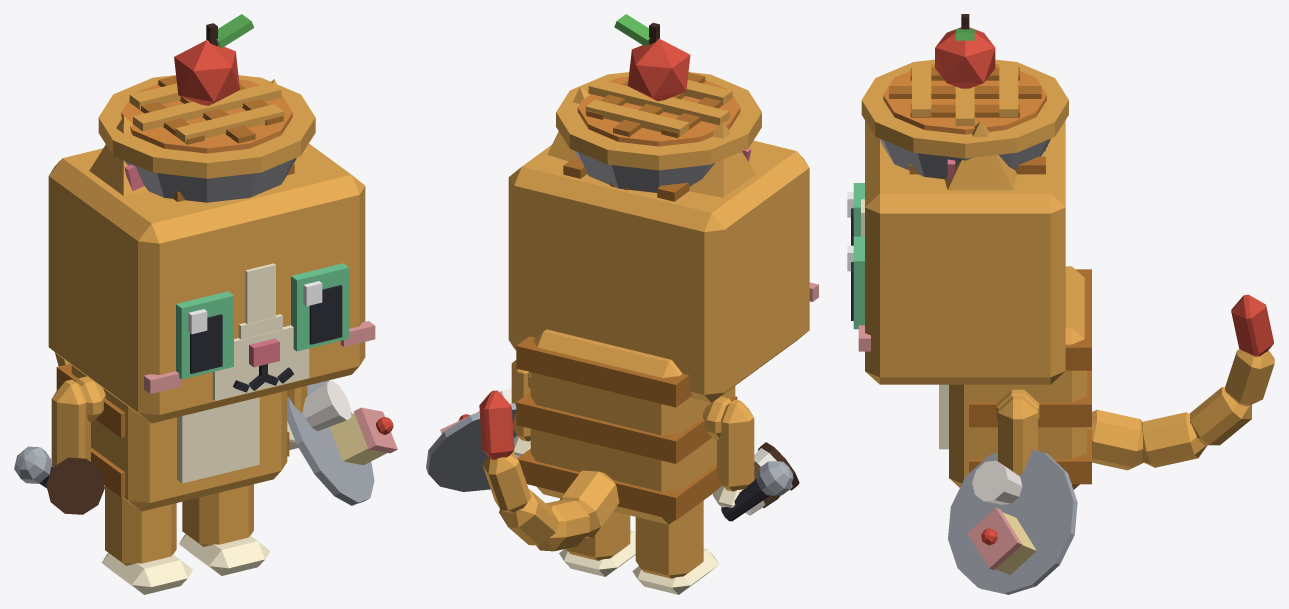
Rendered from CatCafe_Cat_ApplePie_Work.glb.
3 views of the same model, side by side, from view 1: azimuth 30°, elevation 25°; view 2: azimuth 150°, elevation 25°; view 3: azimuth 270°, elevation 25° (orthographic). The views are drawn at different scales.
Visible parts, largest first — view 1: CatCafe_Cat_ApplePie_Work_Head, CatCafe_Cat_ApplePie_Work_Prop, CatCafe_Cat_ApplePie_Work_Body, CatCafe_Cat_ApplePie_Work_Held_Waiter, CatCafe_Cat_ApplePie_Work_LegB2, CatCafe_Cat_ApplePie_Work_LegB1, CatCafe_Cat_ApplePie_Work_Eye1, CatCafe_Cat_ApplePie_Work_Eye2, CatCafe_Cat_ApplePie_Work_LegF2, CatCafe_Cat_ApplePie_Work_Held_Barista, CatCafe_Cat_ApplePie_Work_EarR, CatCafe_Cat_ApplePie_Work_Held_Entertainer; view 2: CatCafe_Cat_ApplePie_Work_Head, CatCafe_Cat_ApplePie_Work_Body, CatCafe_Cat_ApplePie_Work_Prop, CatCafe_Cat_ApplePie_Work_Tail, CatCafe_Cat_ApplePie_Work_LegB2, CatCafe_Cat_ApplePie_Work_Held_Waiter, CatCafe_Cat_ApplePie_Work_LegF2, CatCafe_Cat_ApplePie_Work_LegB1, CatCafe_Cat_ApplePie_Work_EarR, CatCafe_Cat_ApplePie_Work_Held_Entertainer, CatCafe_Cat_ApplePie_Work_LegF1, CatCafe_Cat_ApplePie_Work_Held_Barista (+1 smaller); view 3: CatCafe_Cat_ApplePie_Work_Head, CatCafe_Cat_ApplePie_Work_Prop, CatCafe_Cat_ApplePie_Work_Held_Waiter, CatCafe_Cat_ApplePie_Work_Body, CatCafe_Cat_ApplePie_Work_Tail, CatCafe_Cat_ApplePie_Work_LegF1, CatCafe_Cat_ApplePie_Work_EarL, CatCafe_Cat_ApplePie_Work_Eye1, CatCafe_Cat_ApplePie_Work_Eye2.
Boxes of the visible parts, x1=… form: CatCafe_Cat_ApplePie_Work_Head: x1=48, y1=143, x2=375, y2=423; CatCafe_Cat_ApplePie_Work_Prop: x1=98, y1=14, x2=315, y2=202; CatCafe_Cat_ApplePie_Work_Body: x1=56, y1=364, x2=289, y2=511; CatCafe_Cat_ApplePie_Work_Held_Waiter: x1=287, y1=380, x2=397, y2=505; CatCafe_Cat_ApplePie_Work_LegB2: x1=101, y1=486, x2=192, y2=594; CatCafe_Cat_ApplePie_Work_LegB1: x1=179, y1=484, x2=270, y2=575; CatCafe_Cat_ApplePie_Work_Eye1: x1=291, y1=263, x2=349, y2=351; CatCafe_Cat_ApplePie_Work_Eye2: x1=176, y1=291, x2=233, y2=379; CatCafe_Cat_ApplePie_Work_LegF2: x1=51, y1=379, x2=90, y2=466; CatCafe_Cat_ApplePie_Work_Held_Barista: x1=46, y1=457, x2=104, y2=514; CatCafe_Cat_ApplePie_Work_EarR: x1=89, y1=116, x2=148, y2=195; CatCafe_Cat_ApplePie_Work_Held_Entertainer: x1=14, y1=446, x2=52, y2=488; CatCafe_Cat_ApplePie_Work_Head: x1=508, y1=140, x2=818, y2=402; CatCafe_Cat_ApplePie_Work_Body: x1=516, y1=329, x2=737, y2=524; CatCafe_Cat_ApplePie_Work_Prop: x1=556, y1=14, x2=761, y2=192; CatCafe_Cat_ApplePie_Work_Tail: x1=479, y1=390, x2=619, y2=551; CatCafe_Cat_ApplePie_Work_LegB2: x1=632, y1=500, x2=719, y2=594; CatCafe_Cat_ApplePie_Work_Held_Waiter: x1=426, y1=388, x2=516, y2=491; CatCafe_Cat_ApplePie_Work_LegF2: x1=713, y1=399, x2=754, y2=507; CatCafe_Cat_ApplePie_Work_LegB1: x1=559, y1=511, x2=635, y2=576; CatCafe_Cat_ApplePie_Work_EarR: x1=689, y1=122, x2=755, y2=197; CatCafe_Cat_ApplePie_Work_Held_Entertainer: x1=721, y1=461, x2=793, y2=521; CatCafe_Cat_ApplePie_Work_LegF1: x1=511, y1=360, x2=530, y2=457; CatCafe_Cat_ApplePie_Work_Held_Barista: x1=745, y1=442, x2=799, y2=515; CatCafe_Cat_ApplePie_Work_Head: x1=858, y1=120, x2=1065, y2=384; CatCafe_Cat_ApplePie_Work_Prop: x1=861, y1=14, x2=1068, y2=179; CatCafe_Cat_ApplePie_Work_Held_Waiter: x1=948, y1=450, x2=1077, y2=594; CatCafe_Cat_ApplePie_Work_Body: x1=939, y1=266, x2=1091, y2=489; CatCafe_Cat_ApplePie_Work_Tail: x1=1087, y1=294, x2=1274, y2=470; CatCafe_Cat_ApplePie_Work_LegF1: x1=998, y1=396, x2=1037, y2=475; CatCafe_Cat_ApplePie_Work_EarL: x1=944, y1=121, x2=1017, y2=190; CatCafe_Cat_ApplePie_Work_Eye1: x1=847, y1=236, x2=864, y2=329; CatCafe_Cat_ApplePie_Work_Eye2: x1=847, y1=183, x2=864, y2=245.
Size of the model in its own units: 1.53 by 2.23 by 1.62.
Materials: 1 (1 with a texture image).
